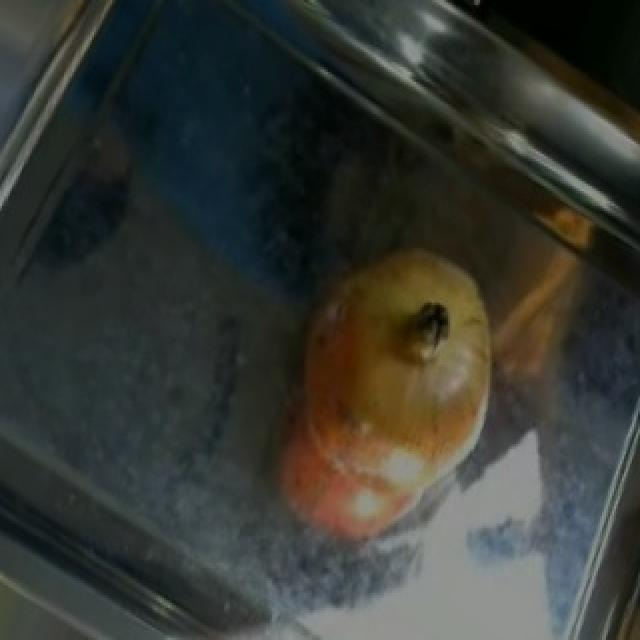fruit: (266, 218, 530, 499)
